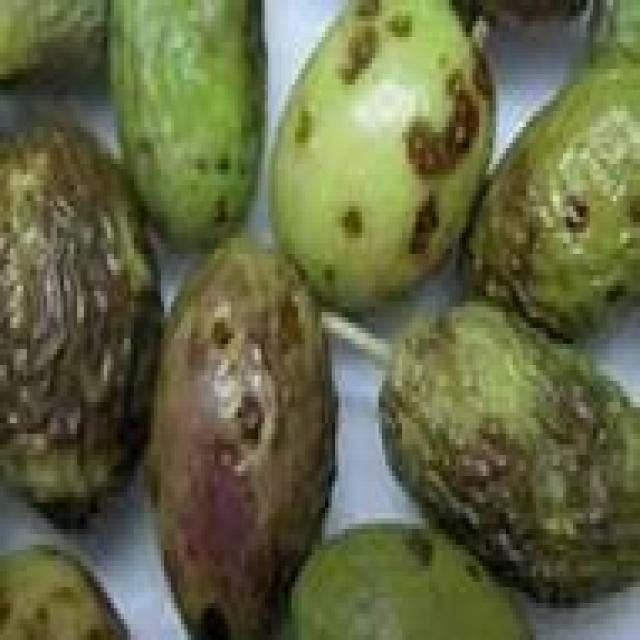Anthracnose: (378, 302, 636, 608), (151, 238, 335, 635), (278, 0, 489, 301), (0, 122, 157, 470), (466, 42, 636, 334), (110, 0, 262, 243), (292, 524, 530, 634)
